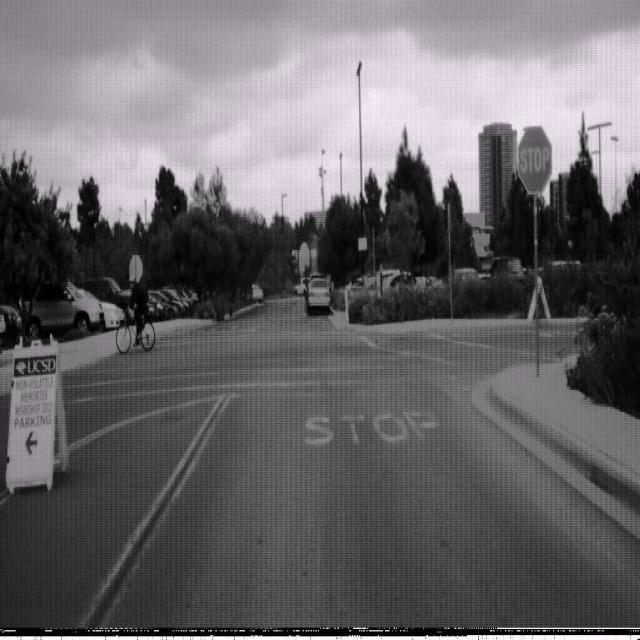stop_sign: (517, 124, 553, 195)
